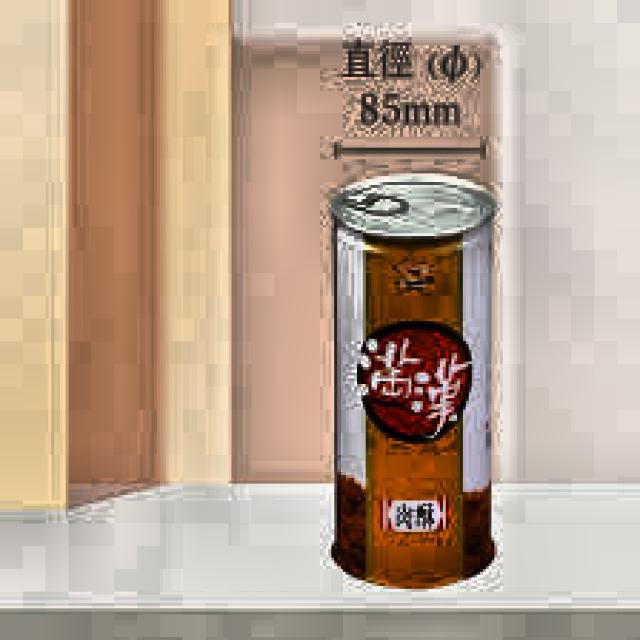can: (325, 167, 504, 596)
